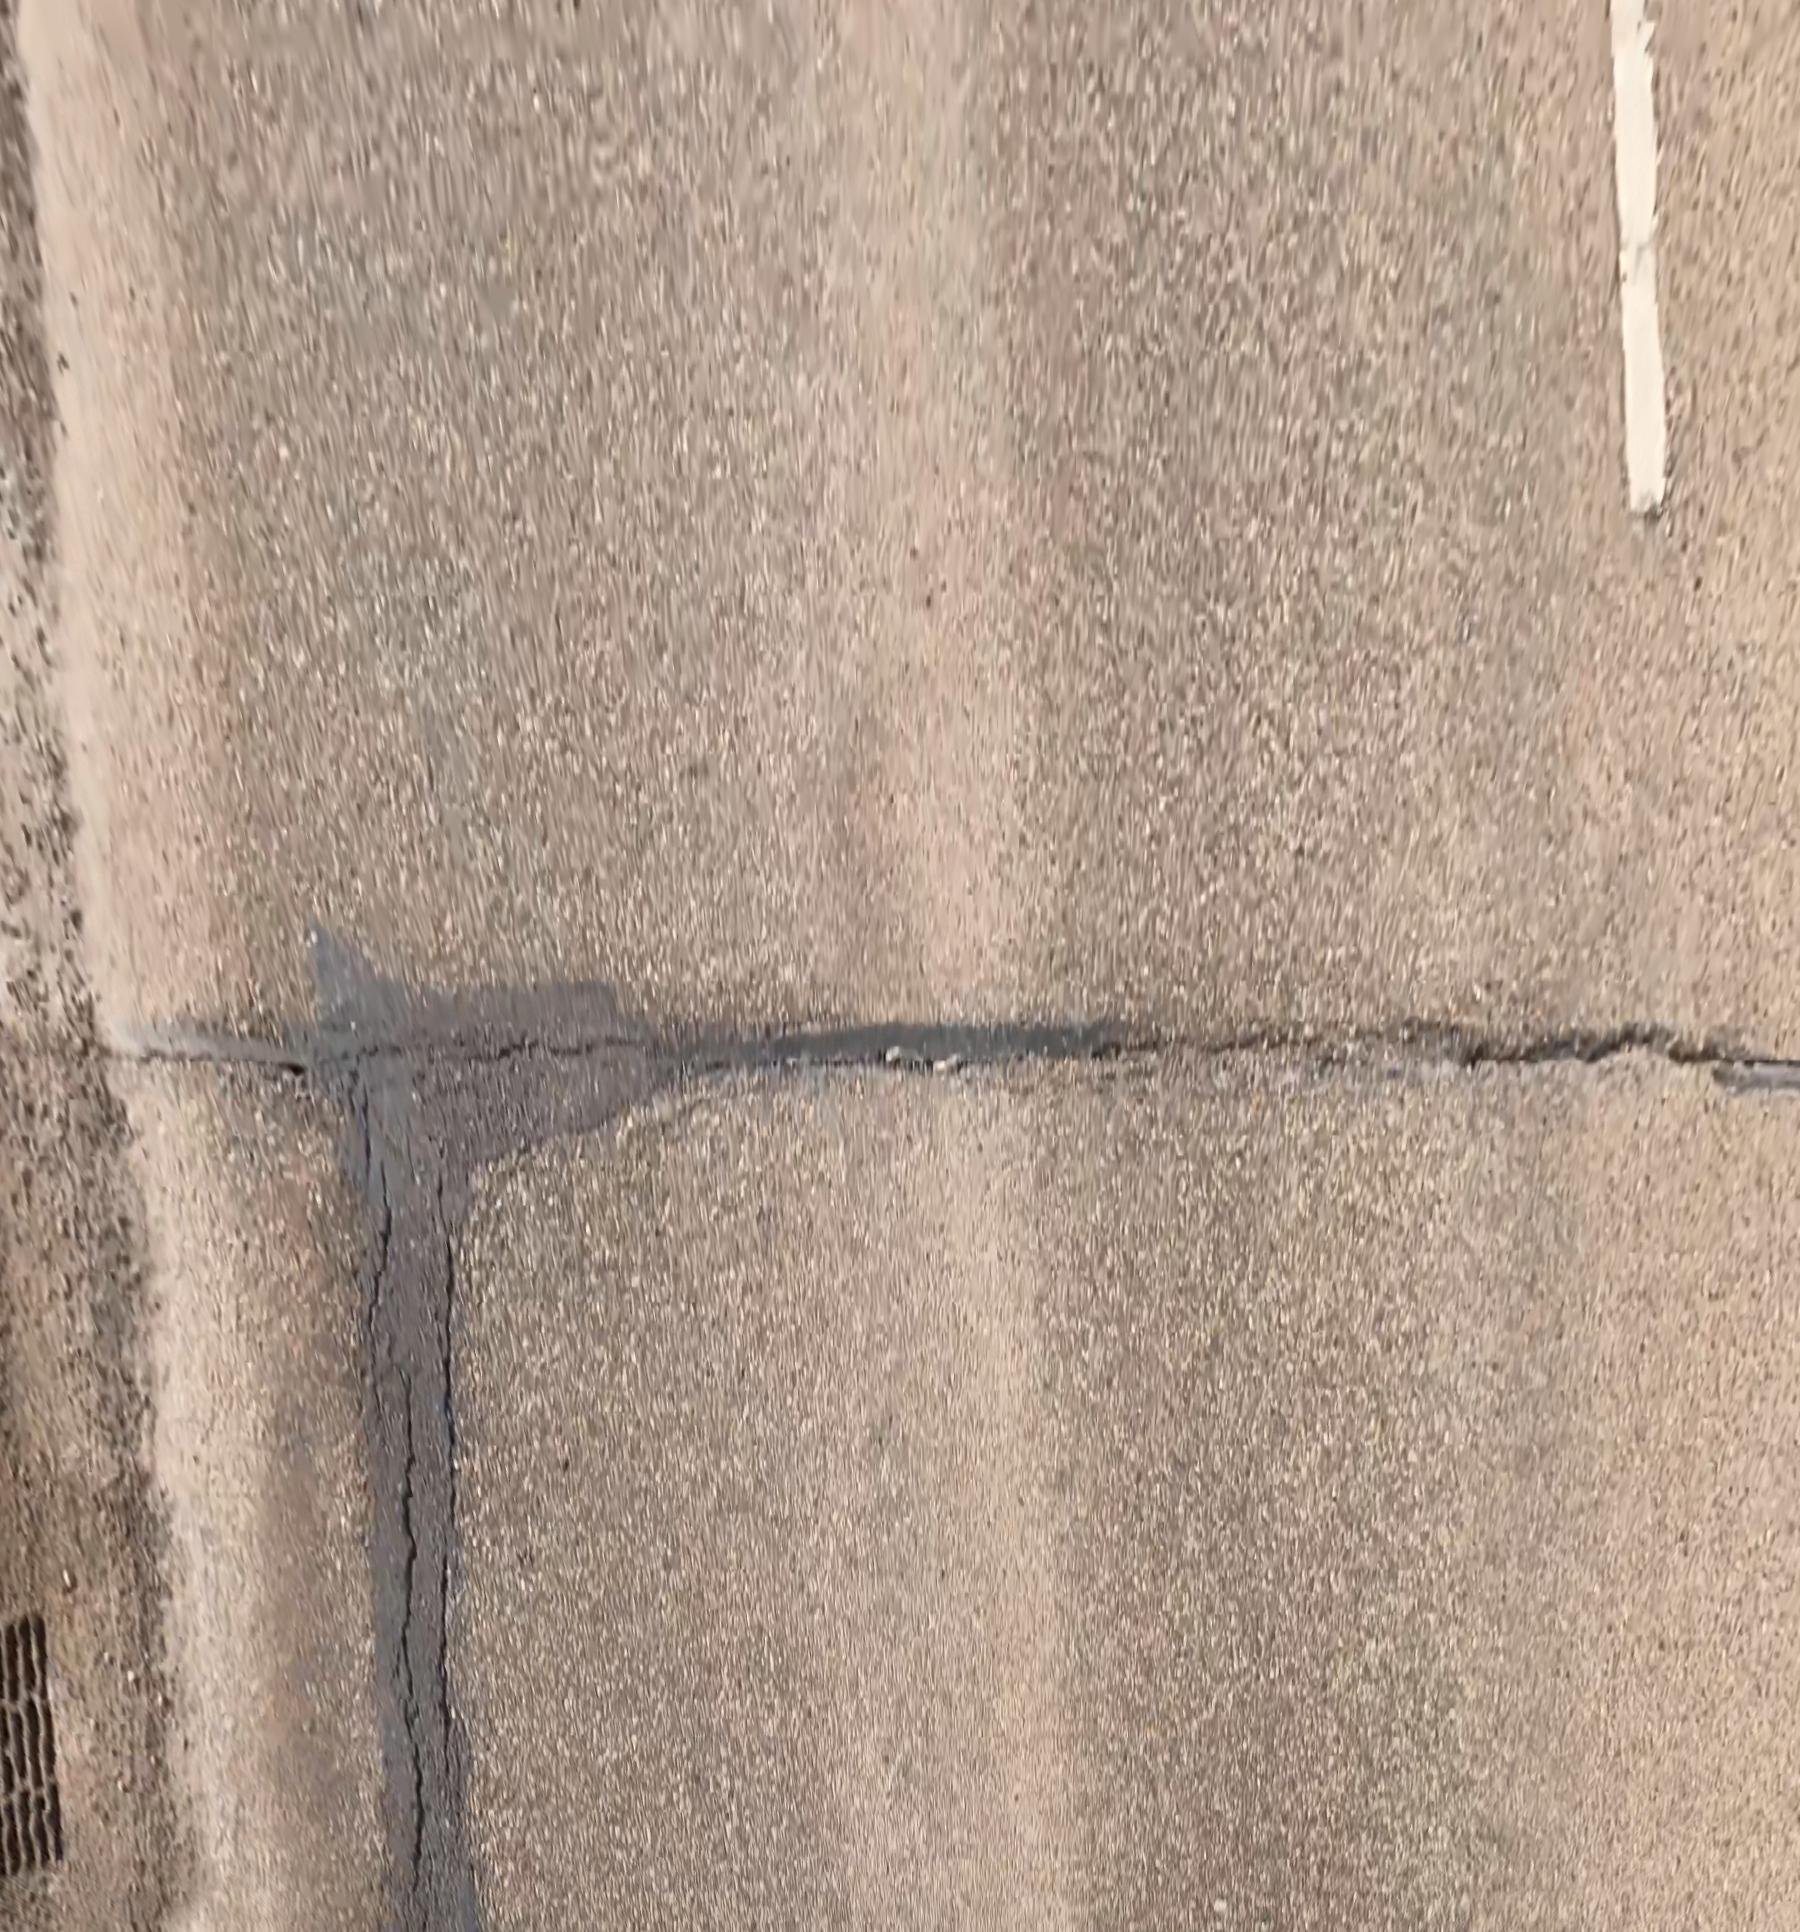pothole_patch_poor: (281, 929, 689, 1220)
